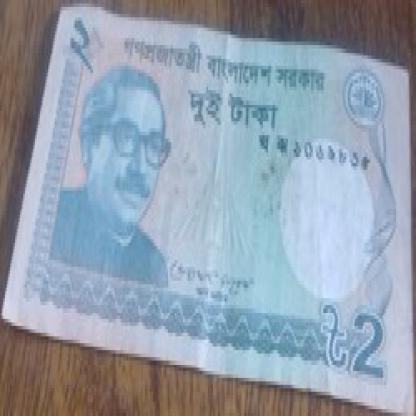two taka: (346, 298, 399, 402), (66, 14, 105, 76)
